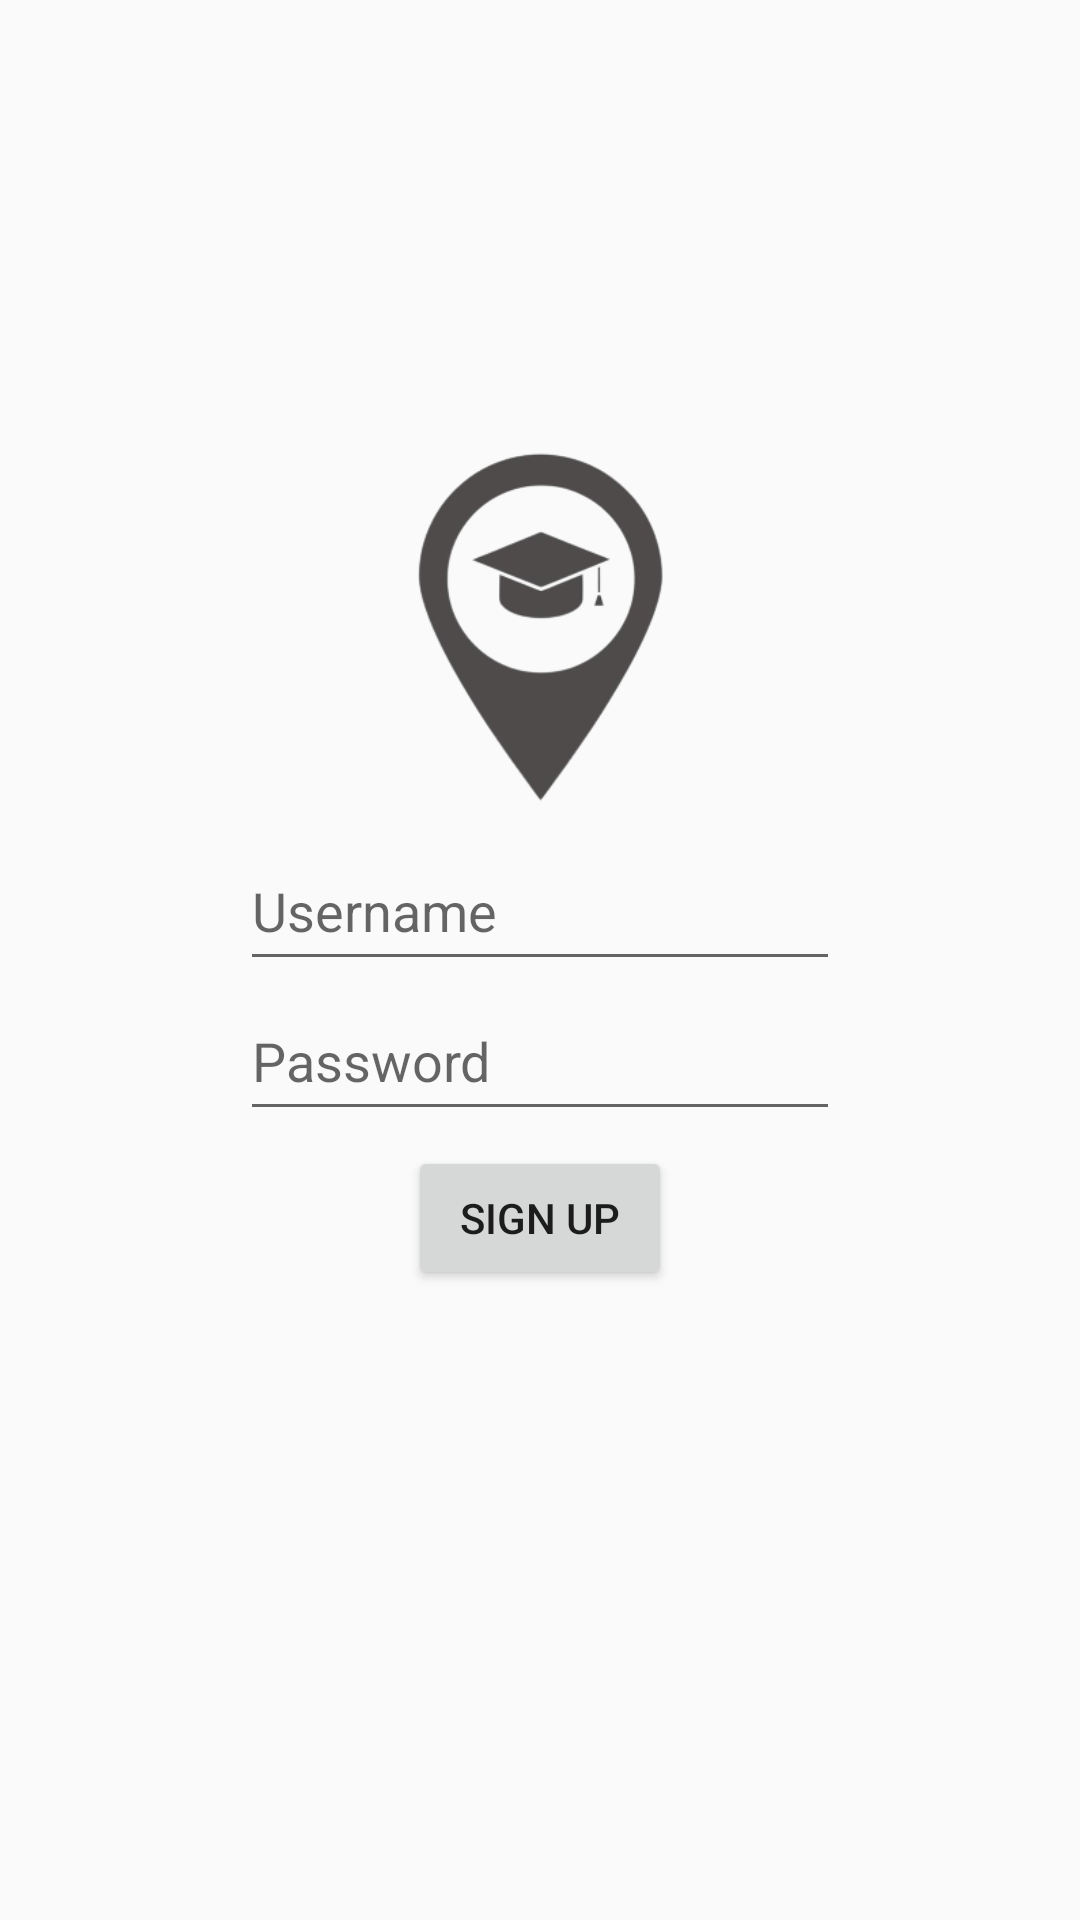

Where to tap for icons on this 1080px×1920px app screen, as (x=x, y=y):
campusicon: (x=540, y=627)
